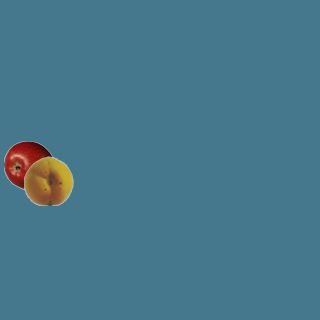Apple Braeburn: (3, 140, 53, 190)
Peach 2: (23, 155, 73, 205)
